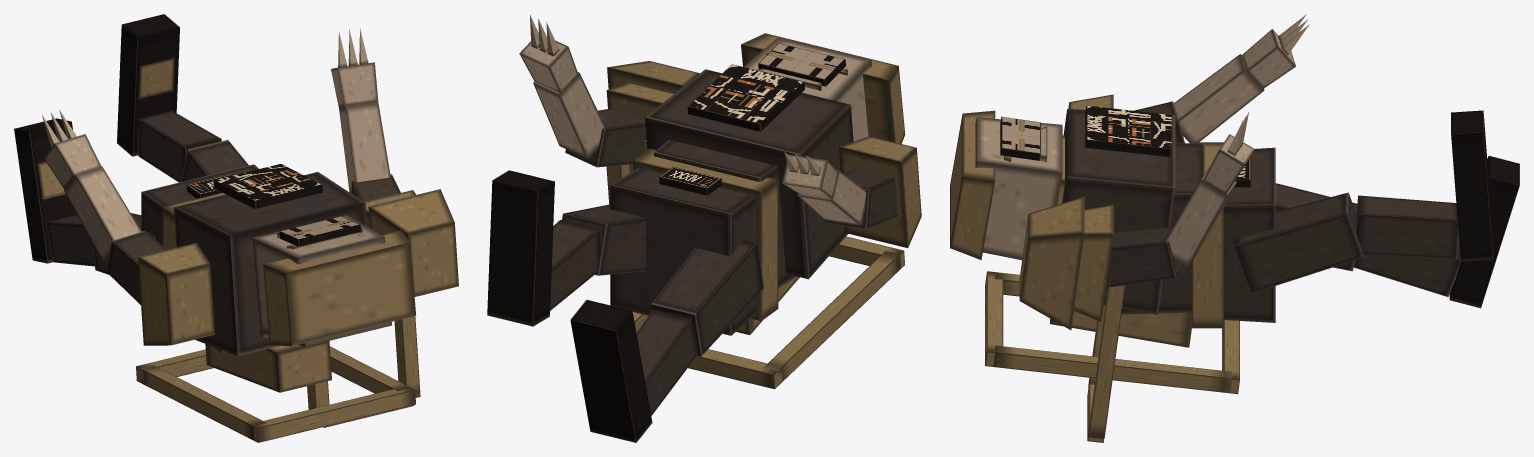
Rendered from jurisiel_move.obj.
3 renders of one model, left to right at view 1: azimuth 30°, elevation 25°; view 2: azimuth 150°, elevation 25°; view 3: azimuth 270°, elevation 25°, orthographic. The views are drawn at different scales.
Parts seen in each view (by area): view 1: jurisiel_move; view 2: jurisiel_move; view 3: jurisiel_move.
Part boxes in pixels (<box>): jurisiel_move: <box>14,14,458,442</box>; jurisiel_move: <box>487,15,921,442</box>; jurisiel_move: <box>950,14,1519,442</box>.
Size of the model in its own units: 0.6675 by 0.6738 by 1.04.
1 material, 1 textured.
